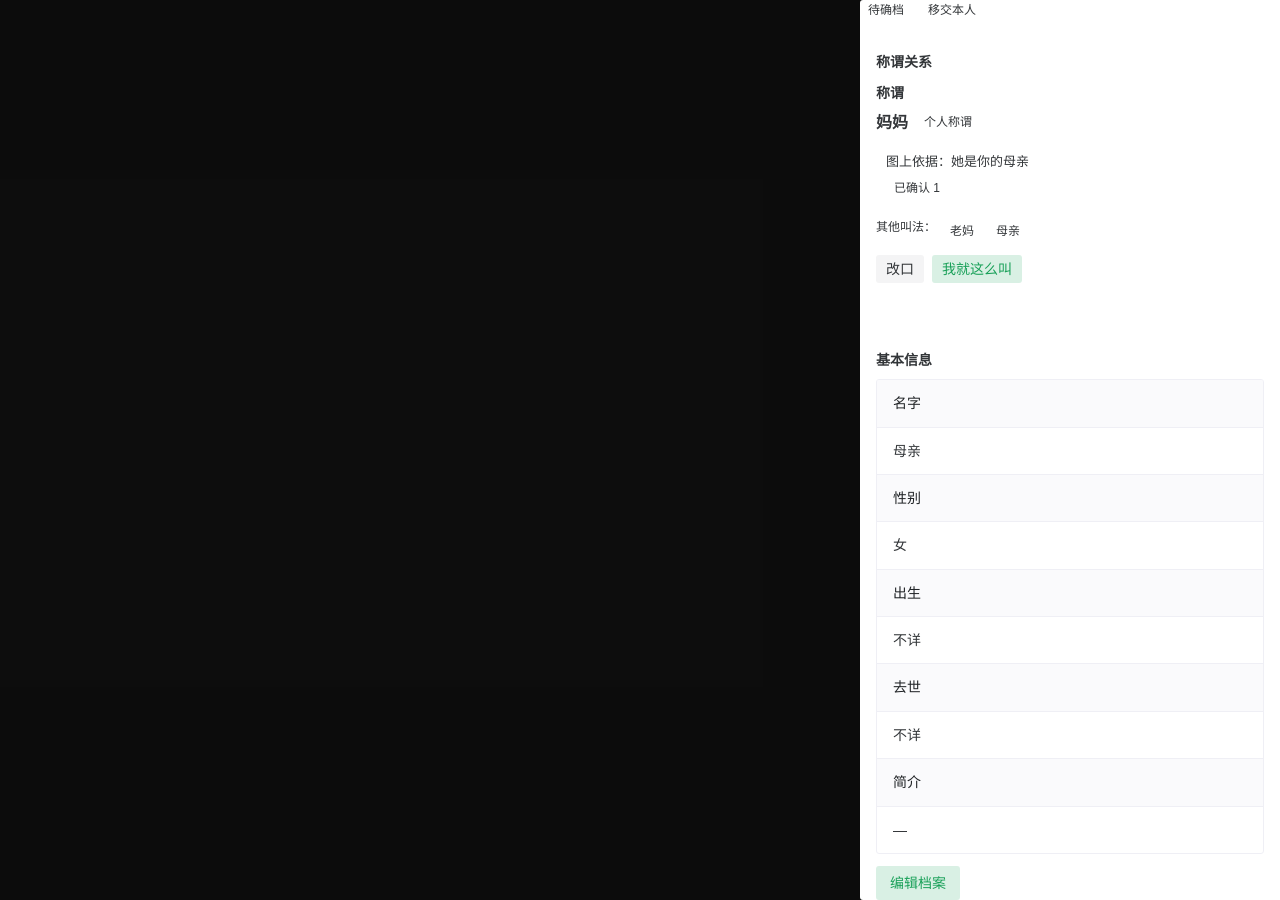
Test: ProfileDrawer 称谓区（V2.3 Block E4c） › 我就这么叫：manual_select 记录使用证据并 toast 晋升状态
Expected: the text with test id "kinship-term" reads "妈妈", [876,114,908,131]
What coordinates should you click on to do the following:
click the button with test id "kinship-call-btn"
I would click on:
 (977, 269)
Its box is [932,255,1022,283].
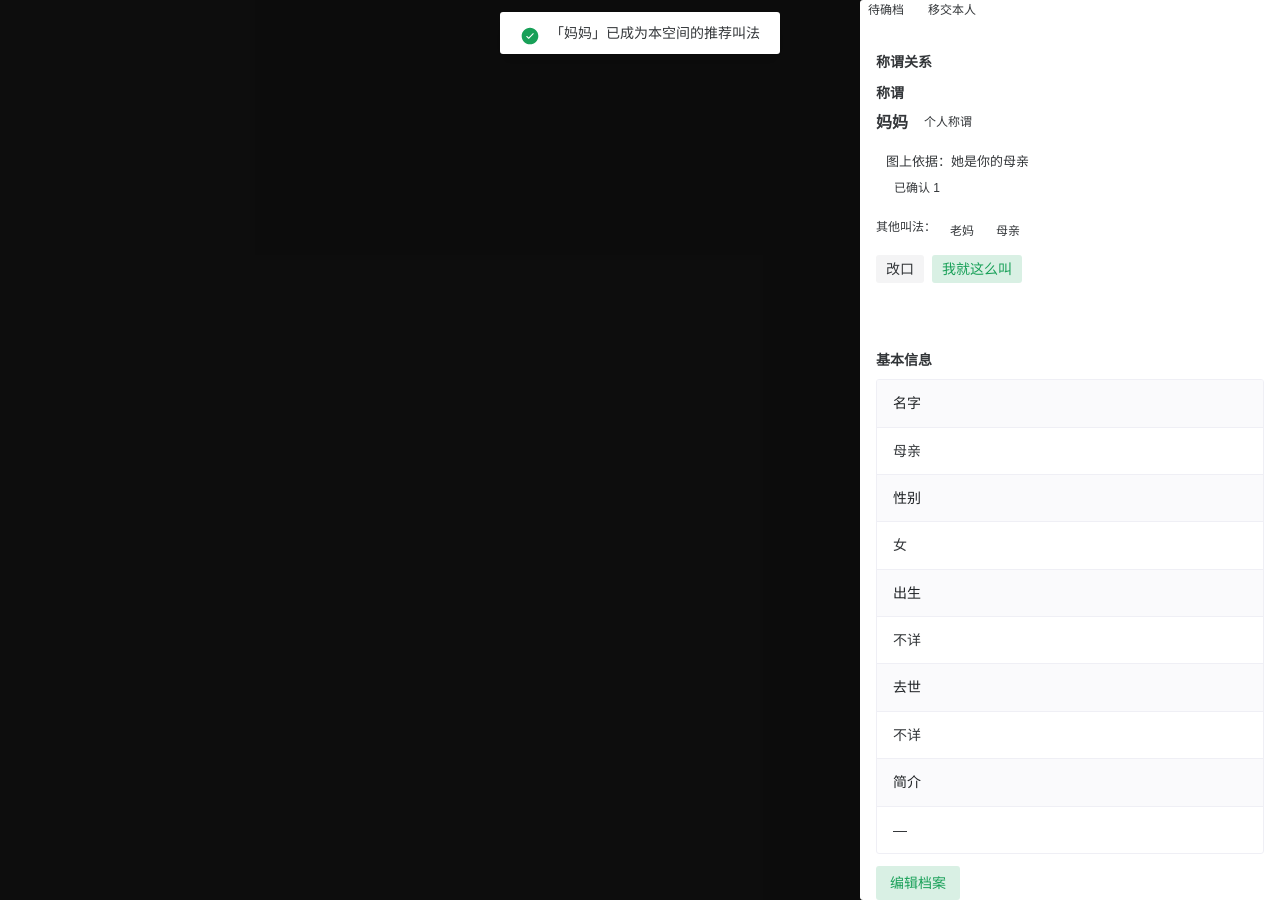
Expected: the text "推荐叫法" is shown, [550,25,760,41]
